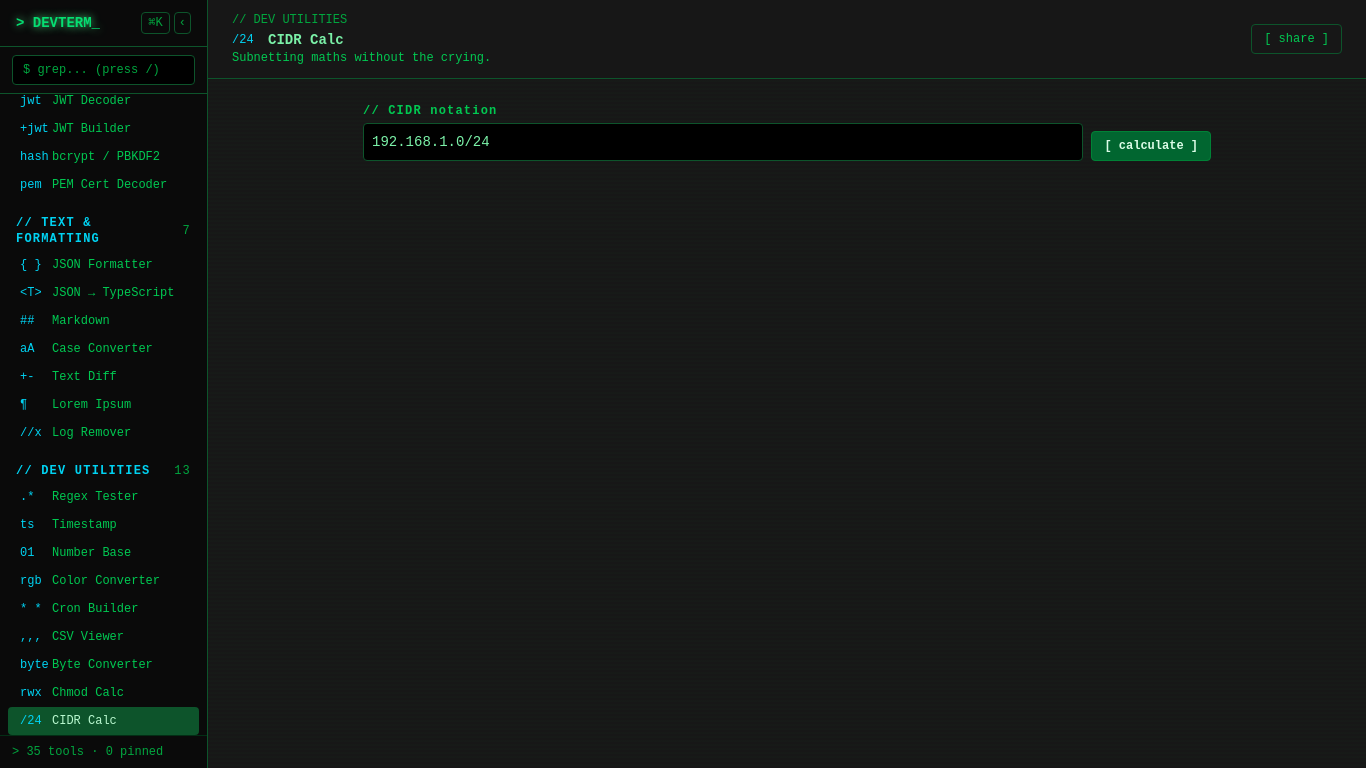
Test case: CIDR Calculator › calculates /24 network details
(page scrolled)
Expected: the element showing "// CIDR notation [ calculate ]" is shown, [363, 103, 1211, 161]
Step 1. Click the button "[ calculate ]" → click(1151, 146), box [1091, 131, 1211, 161]
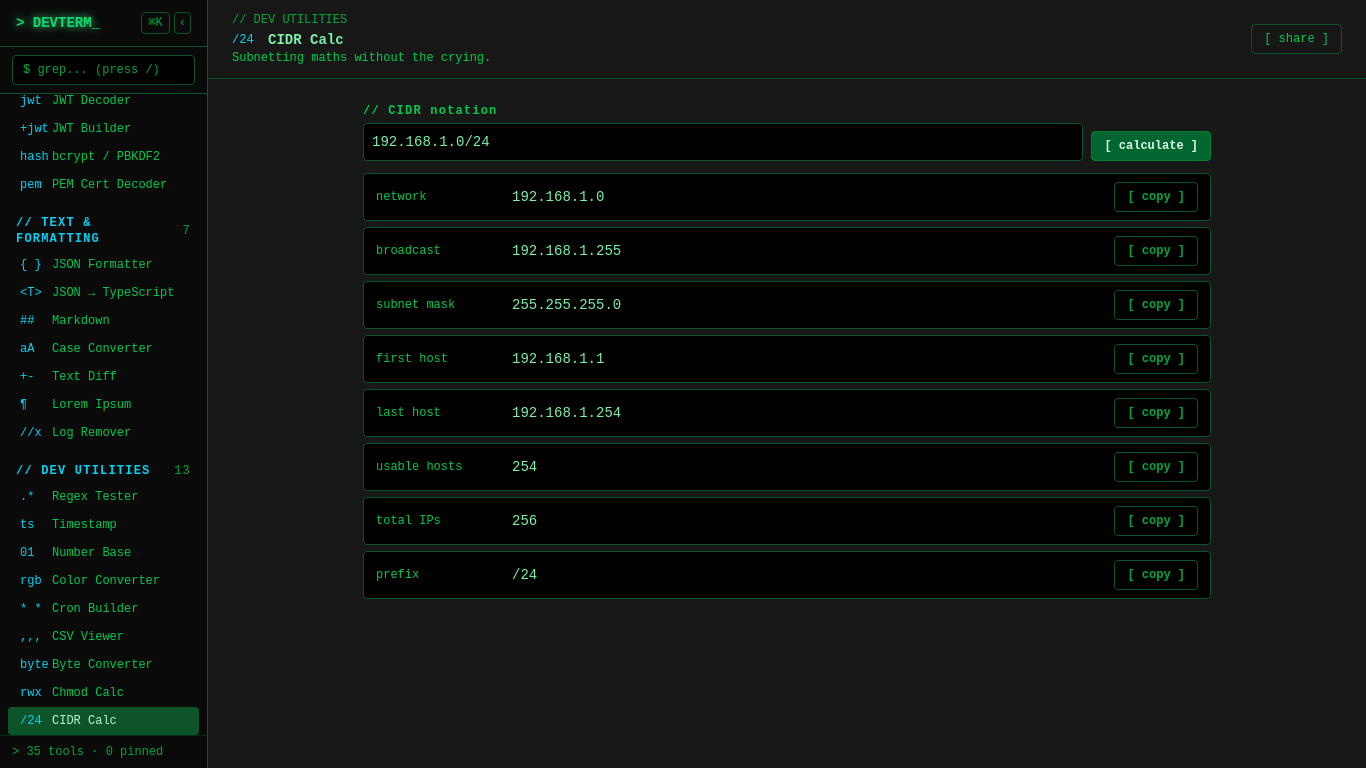
Result: the text "192.168.1.0" is shown at [512, 189, 604, 205]
Result: the text "192.168.1.255" is shown at [512, 243, 621, 259]
